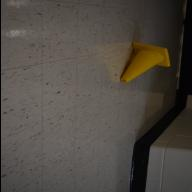cone: (119, 42, 170, 83)
